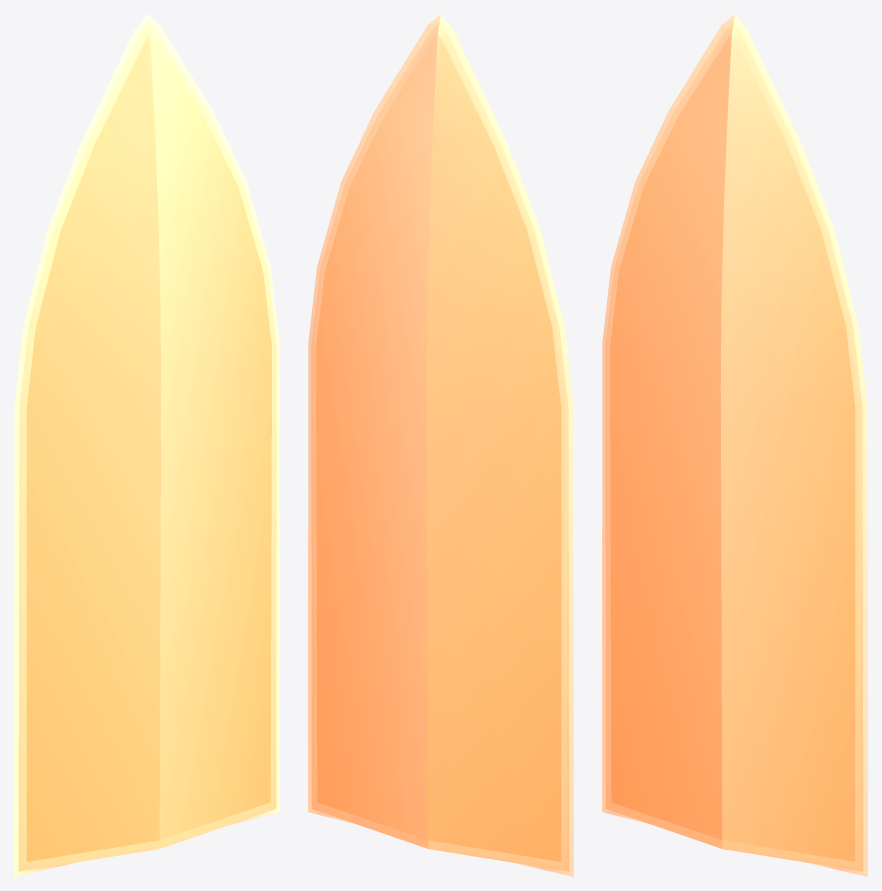
Rendered from wood_blade (9).glb.
3 views of the same model, side by side, from view 1: azimuth 30°, elevation 25°; view 2: azimuth 150°, elevation 25°; view 3: azimuth 330°, elevation 25° (orthographic).
Visible parts, largest first — view 1: wood_blade_steel.077; view 2: wood_blade_steel.077; view 3: wood_blade_steel.077.
Part boxes in pixels (x1=…): wood_blade_steel.077: x1=14, y1=14, x2=279, y2=876; wood_blade_steel.077: x1=308, y1=14, x2=573, y2=876; wood_blade_steel.077: x1=602, y1=14, x2=867, y2=876.
Bounding box in the file's own units: 3.82 × 11.43 × 0.706.
1 material, 1 textured.
